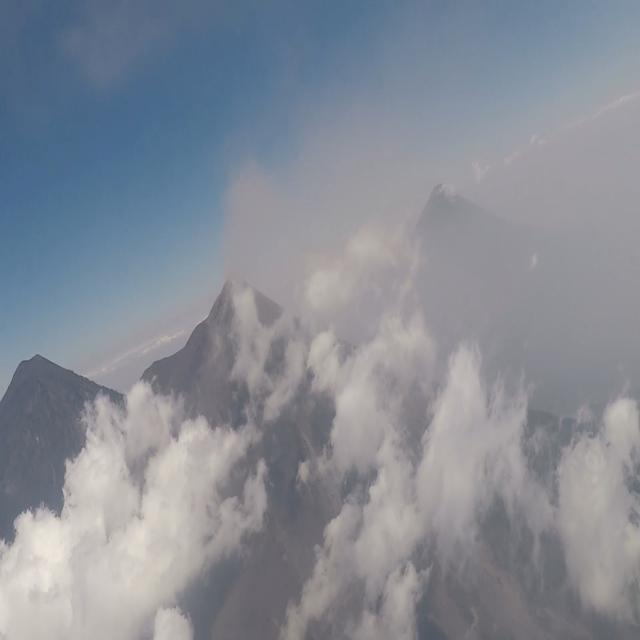Summit: (185, 272, 299, 354)
